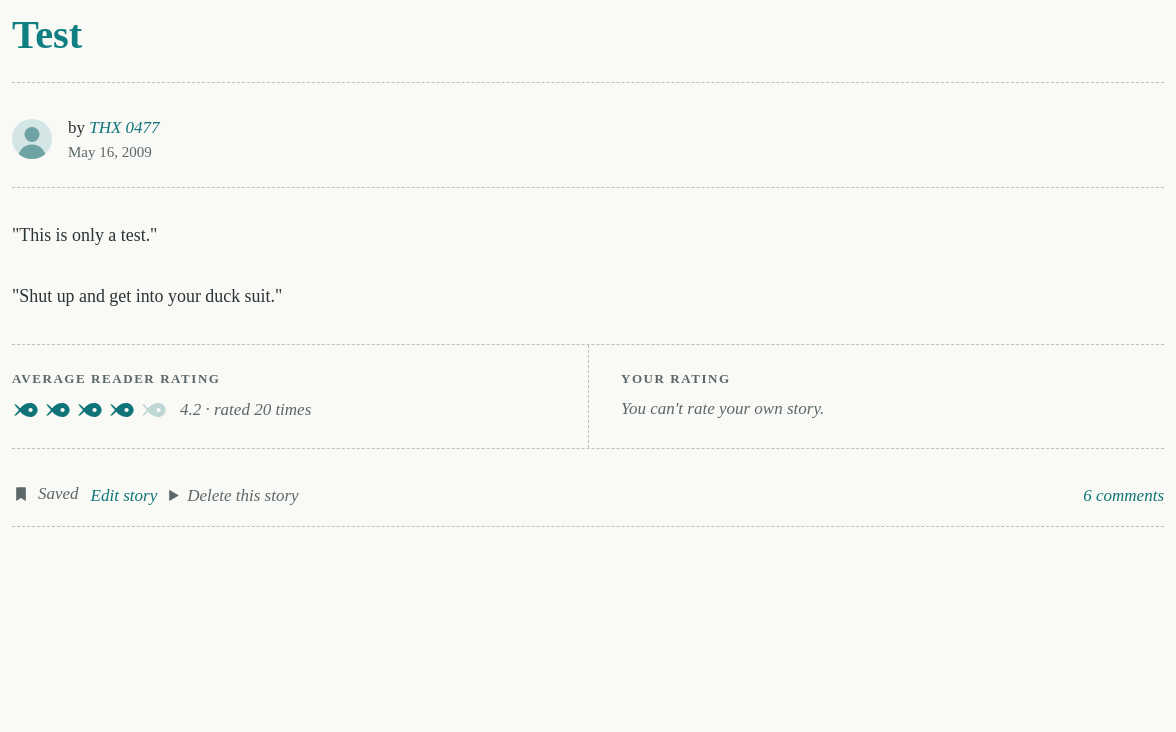
Test case: StoryView › stops authors rating their own story and hides report
Click the heading "Delete this story": (234, 496) 169,483 -> 299,509
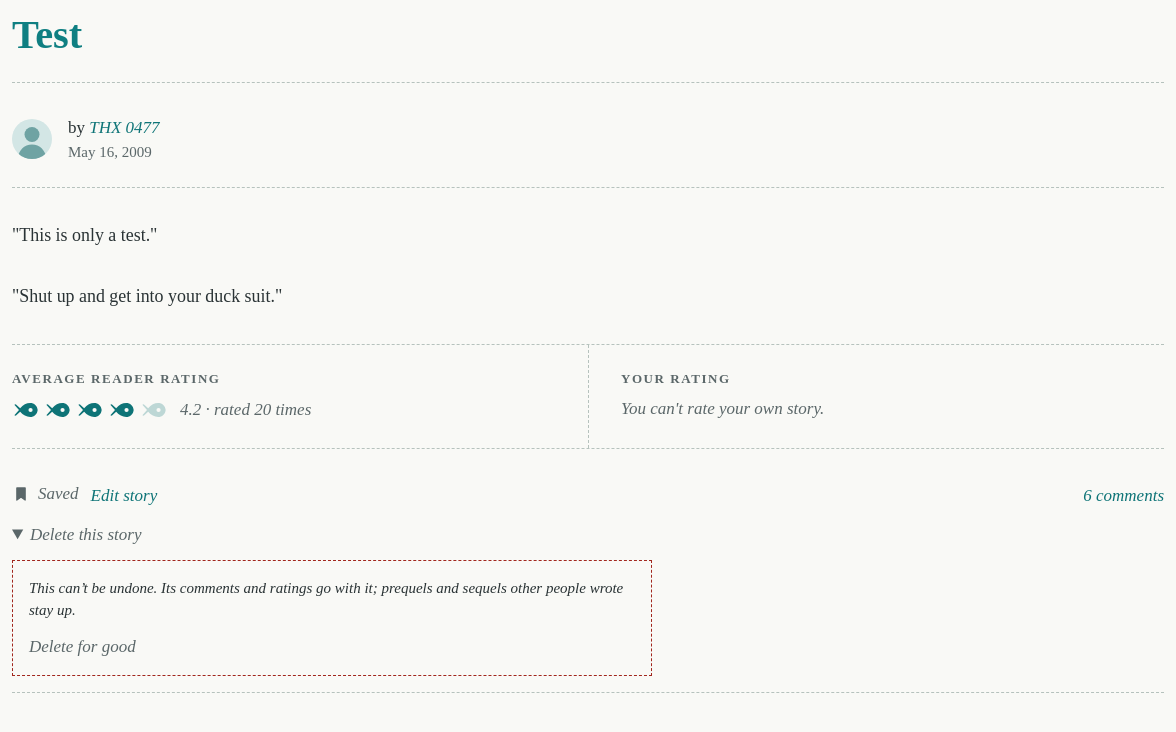
Expected: the button "Saved" is shown, 12,481 -> 79,507
Expected: the button "Delete for good" is shown, 29,634 -> 136,660
